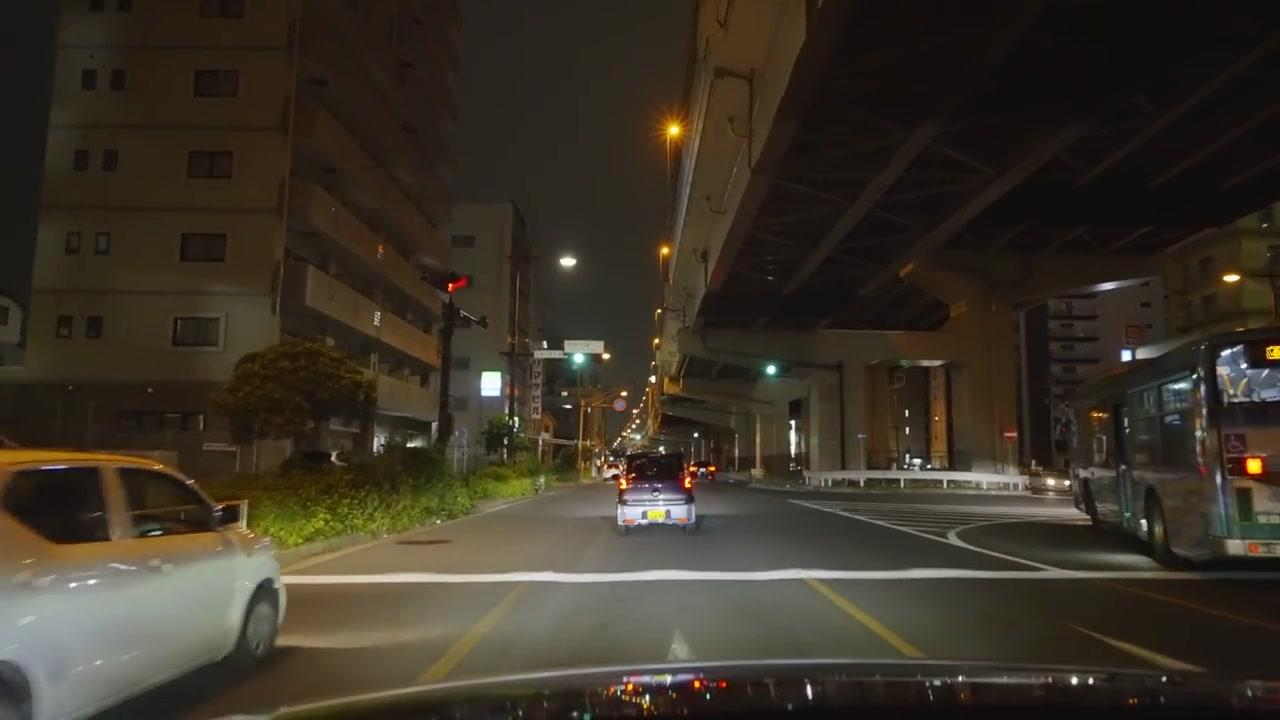bus: (1066, 325, 1279, 568)
car: (0, 447, 288, 715), (615, 450, 700, 536), (1025, 464, 1072, 497)
traffic light: (445, 272, 472, 294), (614, 395, 626, 412)
